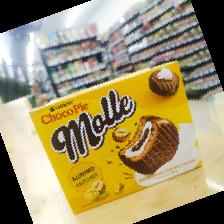Molle: (26, 60, 204, 215)
